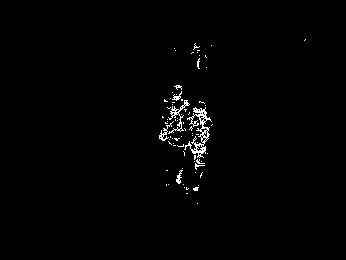person: (160, 84, 189, 186), (189, 101, 214, 191)
